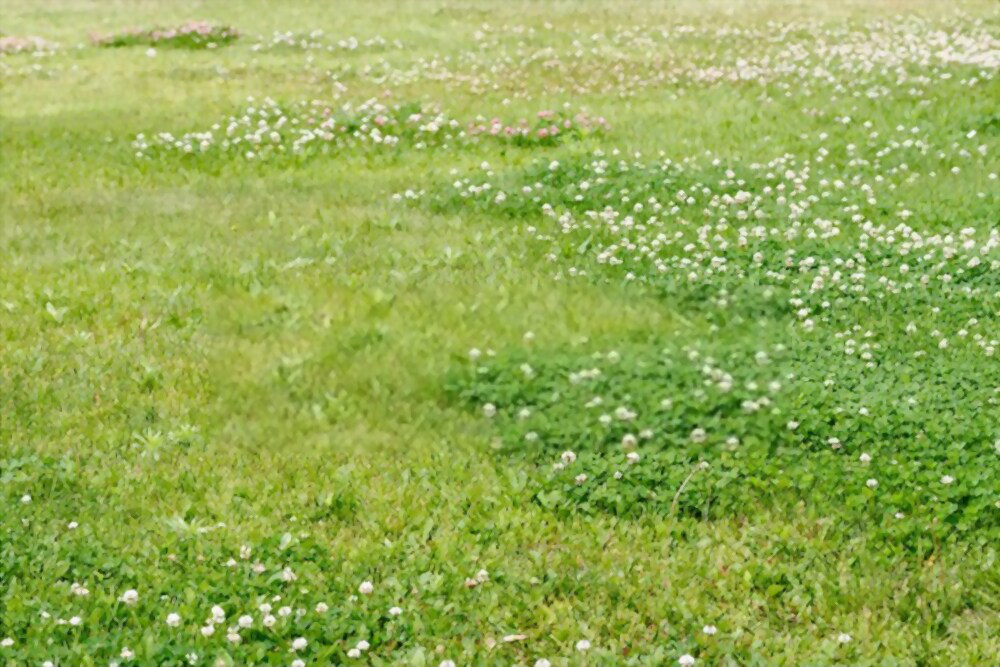clover: (403, 143, 1000, 571), (73, 12, 991, 171), (6, 504, 630, 665)
